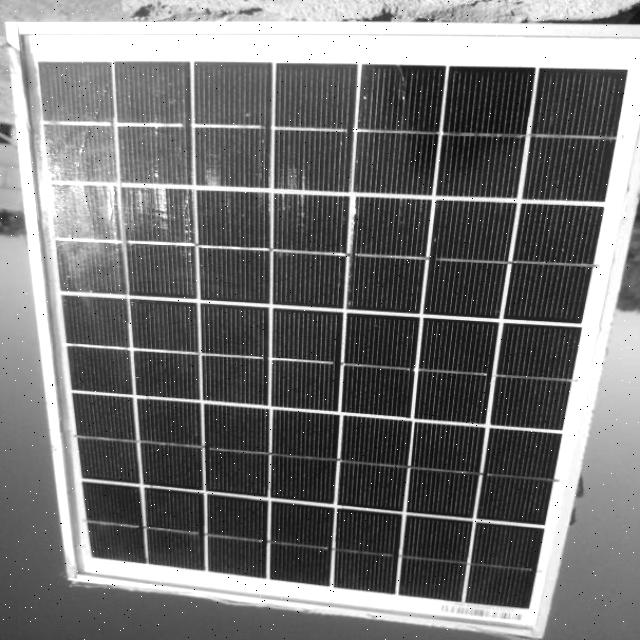Normal Solar Panel: (13, 28, 640, 634)
